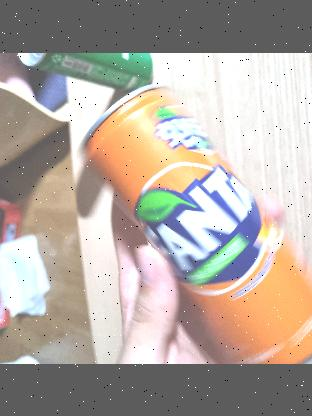Can: (81, 77, 312, 364)
